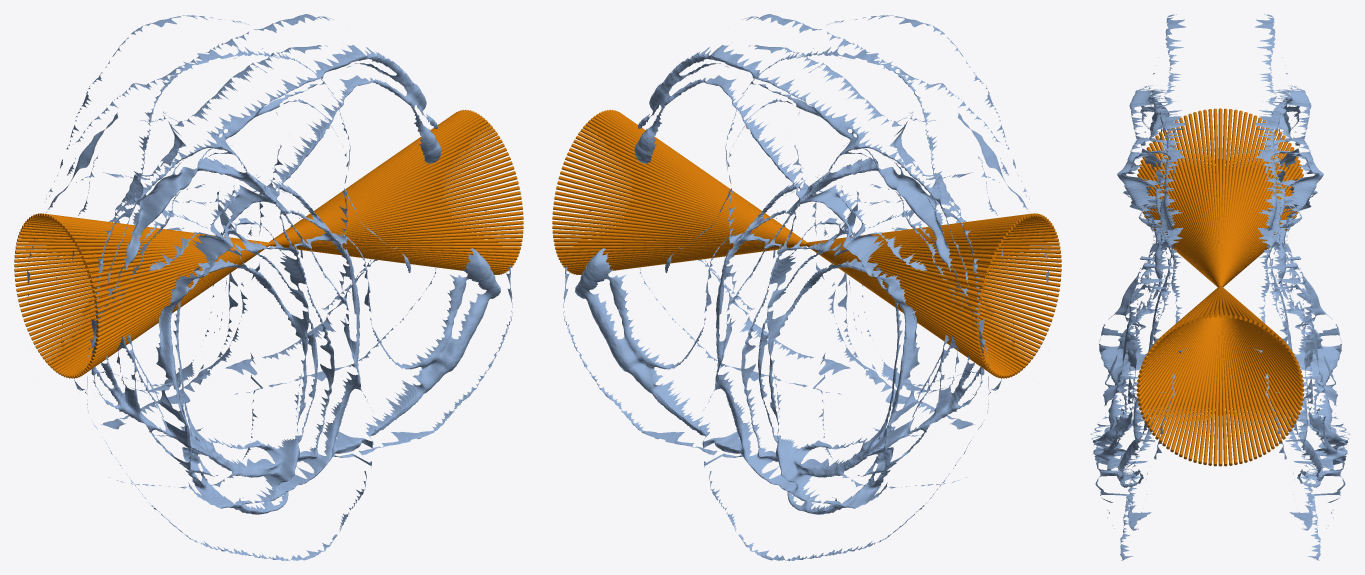
File: A20021026_6145-37-528-7162_DigitalTwin.glb
3 views of the same model, side by side, from view 1: azimuth 30°, elevation 25°; view 2: azimuth 150°, elevation 25°; view 3: azimuth 270°, elevation 25° (orthographic).
Parts seen in each view (by area): view 1: world; view 2: world; view 3: world.
Part boxes in pixels (x1,y1,x2,y2): world: (14,14,523,560); world: (552,14,1061,560); world: (1091,14,1349,560).
Size of the model in its own units: 564 by 633 by 300.
